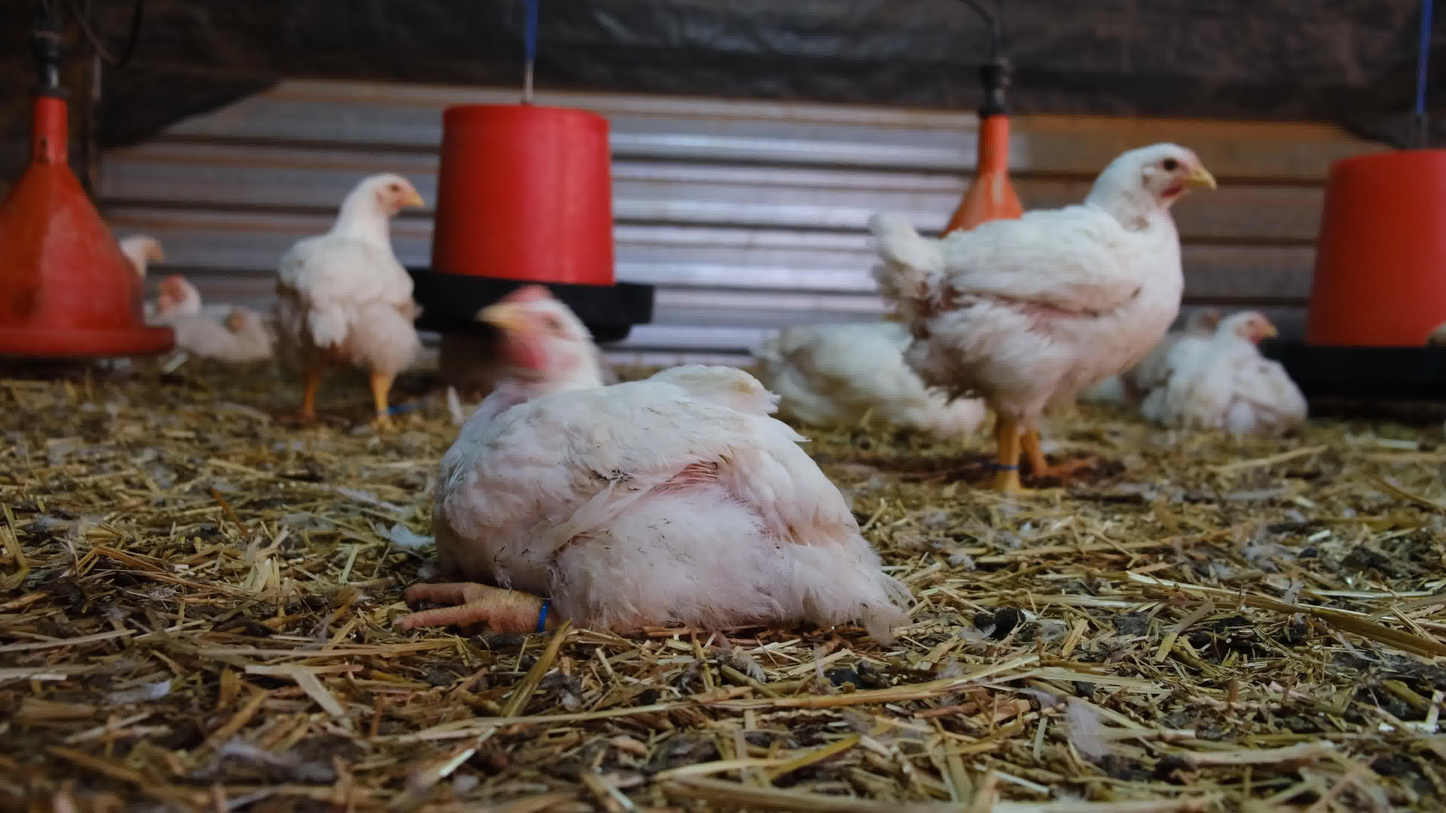AbNormal: (426, 271, 934, 651), (744, 299, 1011, 457), (1192, 305, 1312, 457), (154, 269, 284, 371), (1171, 290, 1248, 403)
Normal: (855, 136, 1224, 480), (265, 167, 442, 446), (105, 213, 188, 307)
